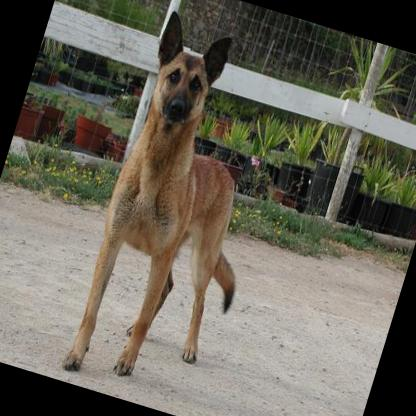malinois: (58, 6, 308, 412)
